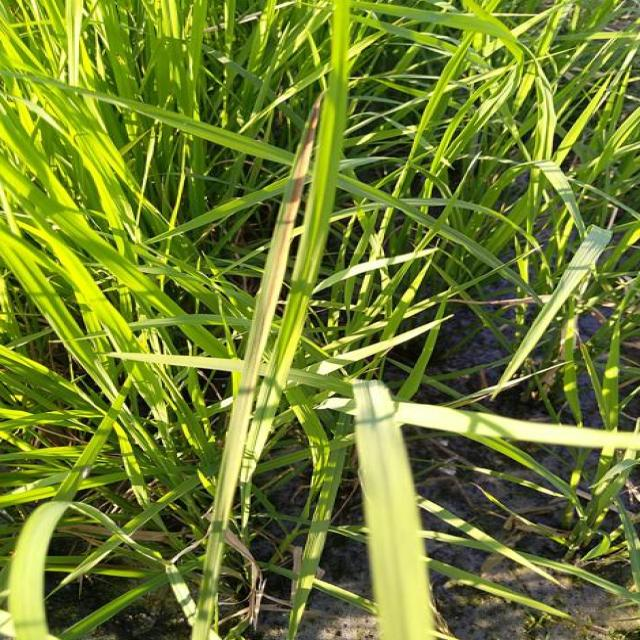Leaf Streak: (230, 104, 320, 495)
